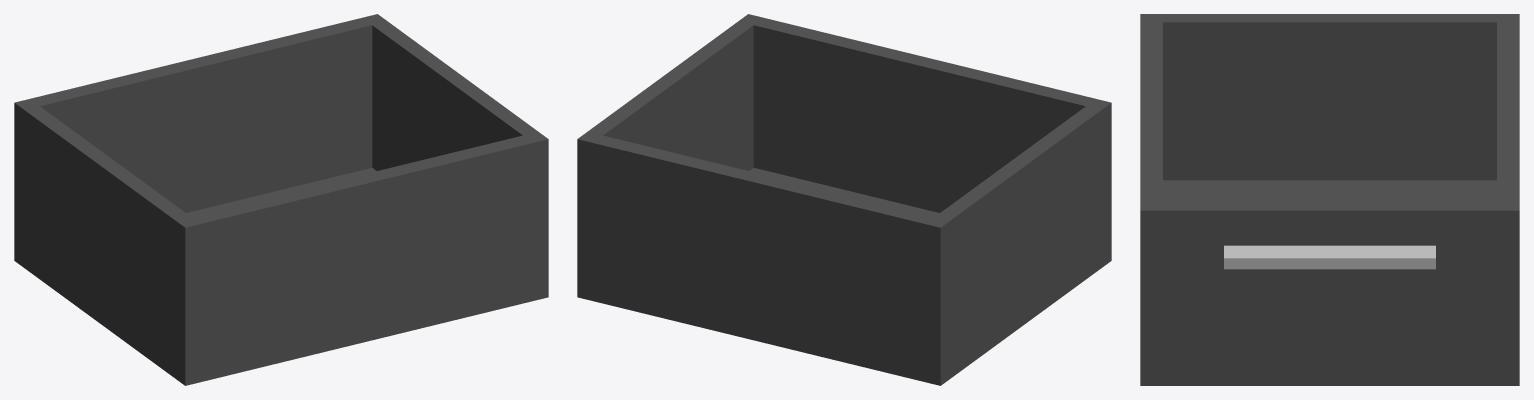
Rendered from LøsSkuffe_2.fbx.
3 renders of one model, left to right at view 1: azimuth 30°, elevation 25°; view 2: azimuth 150°, elevation 25°; view 3: azimuth 270°, elevation 25°, orthographic. The views are drawn at different scales.
Parts seen in each view (by area): view 1: LøsSkuffe_2; view 2: LøsSkuffe_2; view 3: LøsSkuffe_2.
Boxes of the visible parts, <box> form: LøsSkuffe_2: <box>14,14,548,385</box>; LøsSkuffe_2: <box>577,14,1111,385</box>; LøsSkuffe_2: <box>1140,14,1519,385</box>.
Bounding box in the file's own units: 124 × 49.73 × 97.44.
